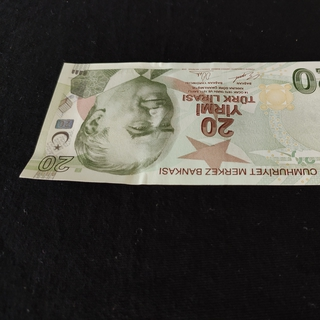20TLFront: (19, 56, 320, 188)
